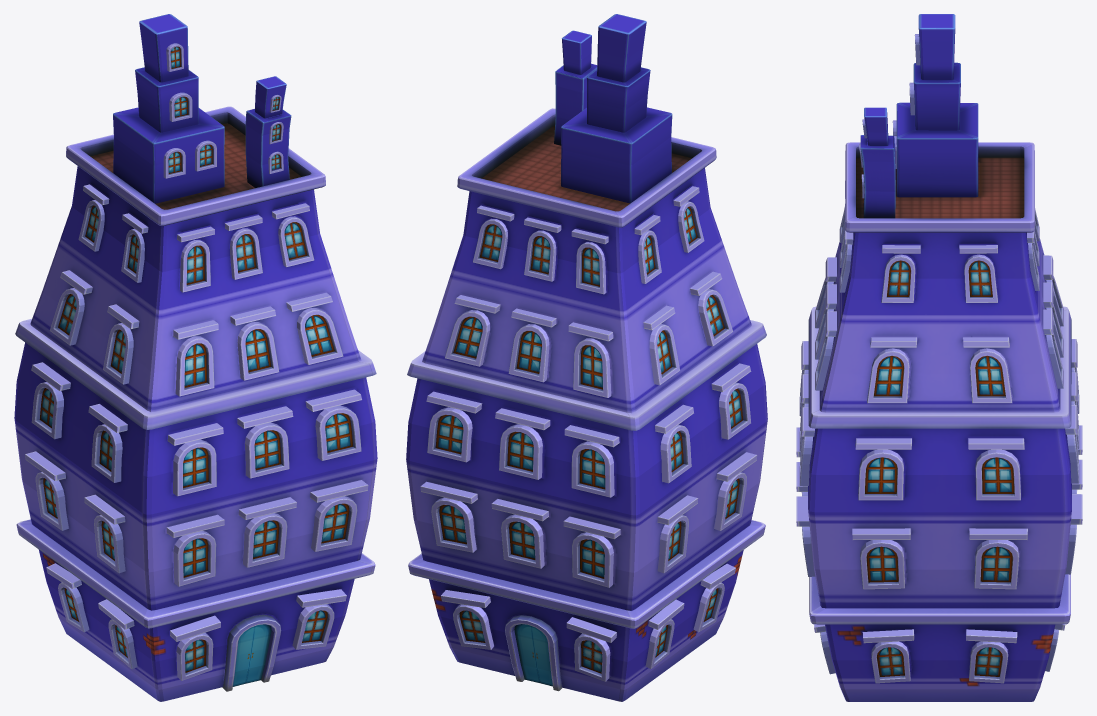
The model's file is NoAnim_Apartment_06.FBX.
The picture shows the model from 3 angles, left to right: view 1: azimuth 30°, elevation 25°; view 2: azimuth 150°, elevation 25°; view 3: azimuth 270°, elevation 25°; orthographic projection.
Parts seen in each view (by area): view 1: NoAnim_Hotel; view 2: NoAnim_Hotel; view 3: NoAnim_Hotel.
Part boxes in pixels (x1,y1,x2,y2): NoAnim_Hotel: (14,14,377,701); NoAnim_Hotel: (406,14,767,701); NoAnim_Hotel: (796,14,1082,701).
Bounding box in the file's own units: 73.56 × 176 × 72.75.
